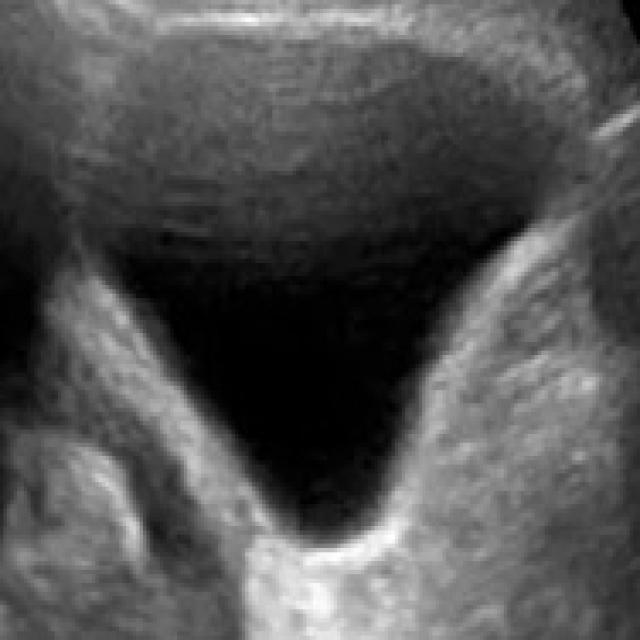bladder: (36, 10, 616, 614)
